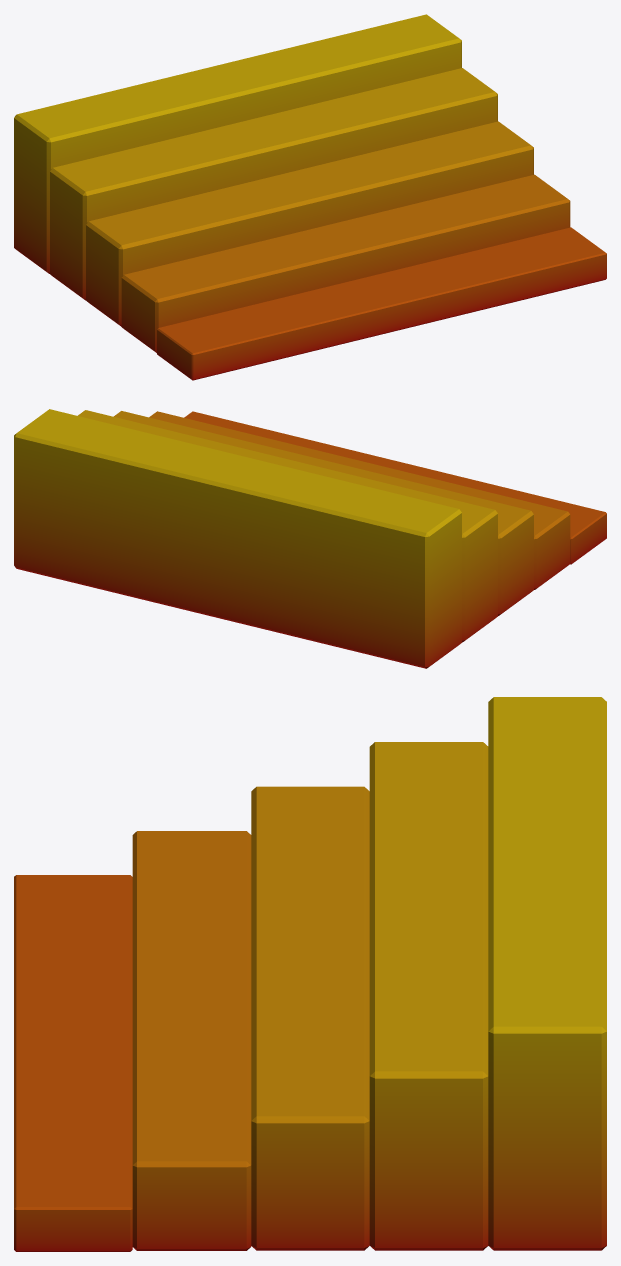
The model's file is steps_broken.glb.
The picture shows the model from 3 angles, top to bottom: view 1: azimuth 30°, elevation 25°; view 2: azimuth 150°, elevation 25°; view 3: azimuth 270°, elevation 25°; orthographic projection. The views are drawn at different scales.
Parts seen in each view (by area): view 1: steps_broken; view 2: steps_broken; view 3: steps_broken.
Part boxes in pixels (box(x1,y1,x2,y2)): steps_broken: box(14, 14, 606, 380); steps_broken: box(14, 409, 606, 668); steps_broken: box(14, 697, 606, 1251).
Size of what is drawn, in the model's own units: 4 by 1.25 by 3.
